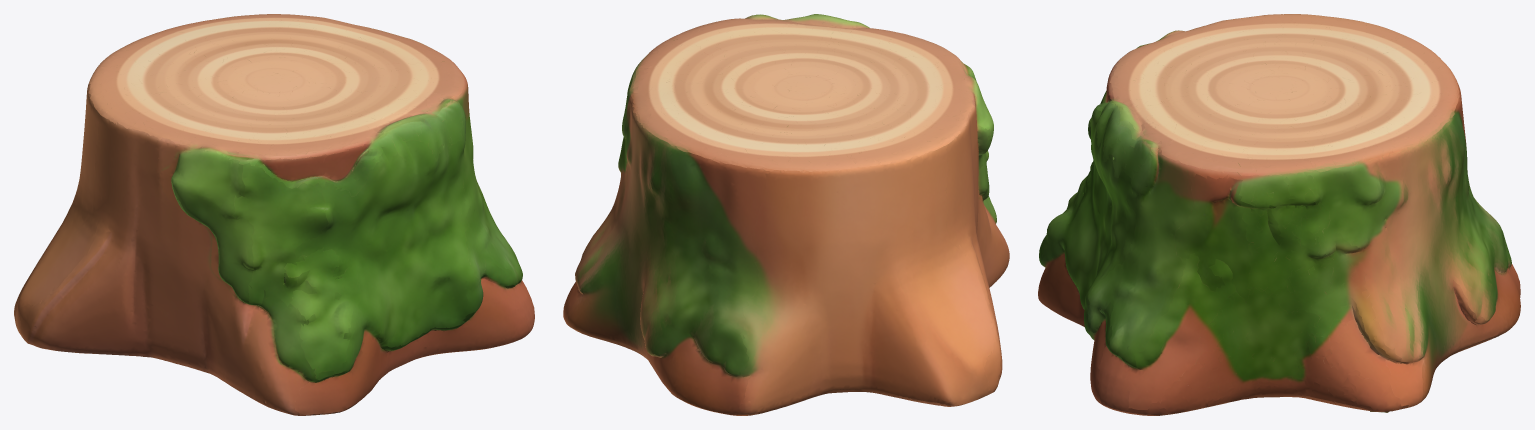
The model's file is nat_stump.glb.
3 renders of one model, left to right at view 1: azimuth 30°, elevation 25°; view 2: azimuth 150°, elevation 25°; view 3: azimuth 270°, elevation 25°, orthographic.
Visible parts, largest first — view 1: geometry_0; view 2: geometry_0; view 3: geometry_0.
Boxes of the visible parts, x1,y1,x2,y2 form: geometry_0: (14,14,534,415); geometry_0: (563,14,1009,415); geometry_0: (1038,14,1520,415).
Size of the model in its own units: 0.35 by 0.199 by 0.3502.
1 material, 1 textured.
